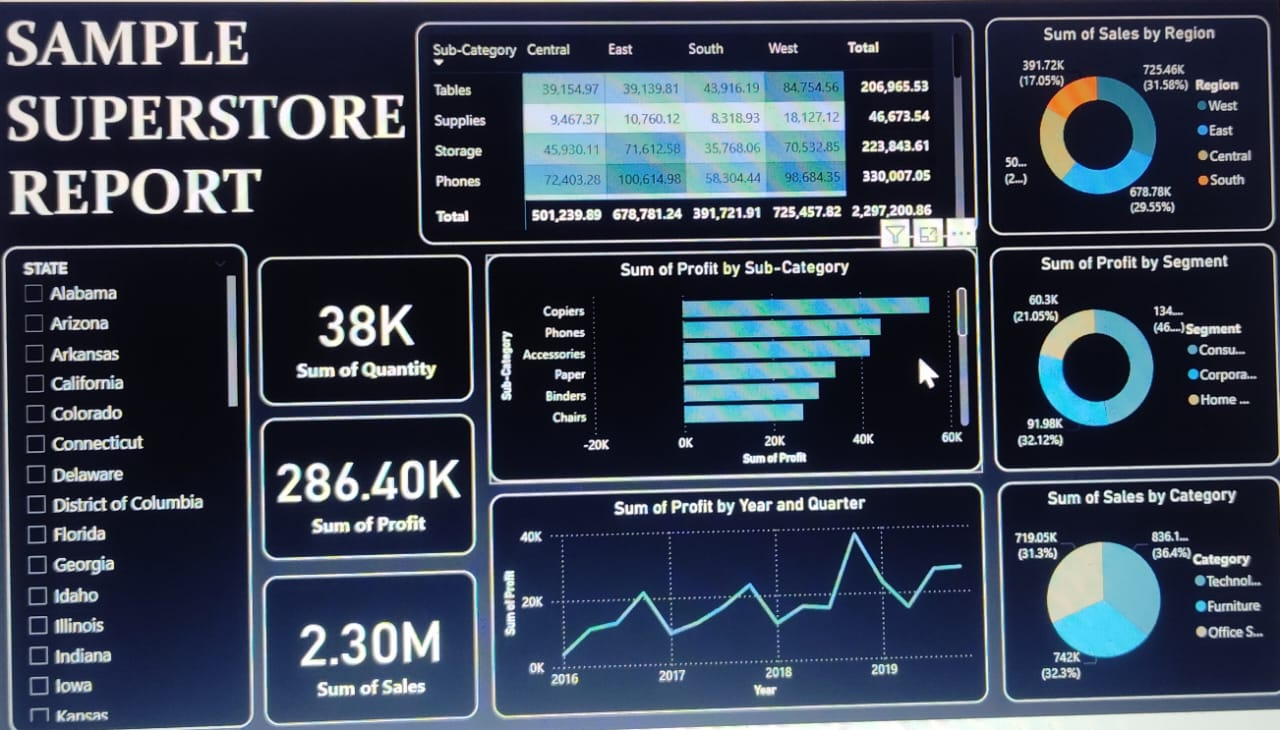

The page's visual inventory and layout, read from the dashboard file:
{"tool":"powerbi","page":{"name":"SAMPLE SUPERSTORE REPORT","canvas":[1280,720],"ordinal":0},"visuals":[{"type":"pieChart","fields":{"Category":["Orders.Category"],"Y":["Sum(Orders.Sales)"]},"box":[978.4,485.8,288.2,218.2],"z":0},{"type":"donutChart","fields":{"Category":["Orders.Region"],"Y":["Sum(Orders.Sales)"]},"box":[975.6,19.2,290.9,218.2],"z":1000},{"type":"donutChart","fields":{"Category":["Orders.Segment"],"Y":["Sum(Orders.Profit)"]},"box":[975.6,251.1,290.9,223.7],"z":2000},{"type":"pivotTable","fields":{"Rows":["Orders.Sub-Category"],"Columns":["Orders.Region"],"Values":["Sum(Orders.Sales)"]},"box":[407.5,20.6,555.7,218.2],"z":3000},{"type":"clusteredBarChart","fields":{"Y":["Sum(Orders.Profit)"],"Category":["Orders.Sub-Category"]},"box":[472,249.7,491.3,225],"z":4000},{"type":"lineChart","fields":{"Y":["Sum(Orders.Profit)"],"Category":["Orders.Order Date.Variation.Date Hierarchy.Year","Orders.Order Date.Variation.Date Hierarchy.Quarter"]},"box":[472,485.8,491.3,218.2],"z":5000},{"type":"slicer","fields":{"Values":["Orders.State"]},"box":[12.3,236,229.2,467.9],"z":6000},{"type":"card","fields":{"Values":["Sum(Orders.Sales)"]},"box":[252.5,559.9,204.5,144.1],"z":7000},{"type":"card","fields":{"Values":["Sum(Orders.Profit)"]},"box":[252.5,406.2,204.5,137.2],"z":8000},{"type":"card","fields":{"Values":["Sum(Orders.Quantity)"]},"box":[252.5,249.7,204.5,144.1],"z":9000},{"type":"textbox","box":[12.3,0,404.9,239.3],"z":10000}]}

Visuals, with their boxes in screenshot pixels (x1, y1, x2, y2), scaled from the page's 1280x720 canvas onto the 1280x730 screenshot:
pieChart - Orders.Category x Sum(Orders.Sales): left=978, top=493, right=1267, bottom=714
donutChart - Orders.Region x Sum(Orders.Sales): left=976, top=19, right=1266, bottom=241
donutChart - Orders.Segment x Sum(Orders.Profit): left=976, top=255, right=1266, bottom=481
pivotTable - Orders.Sub-Category x Orders.Region: left=408, top=21, right=963, bottom=242
clusteredBarChart - Sum(Orders.Profit) x Orders.Sub-Category: left=472, top=253, right=963, bottom=481
lineChart - Sum(Orders.Profit) x Orders.Order Date.Variation.Date Hierarchy.Year: left=472, top=493, right=963, bottom=714
slicer - Orders.State: left=12, top=239, right=242, bottom=714
card - Sum(Orders.Sales): left=252, top=568, right=457, bottom=714
card - Sum(Orders.Profit): left=252, top=412, right=457, bottom=551
card - Sum(Orders.Quantity): left=252, top=253, right=457, bottom=399
textbox: left=12, top=0, right=417, bottom=243
